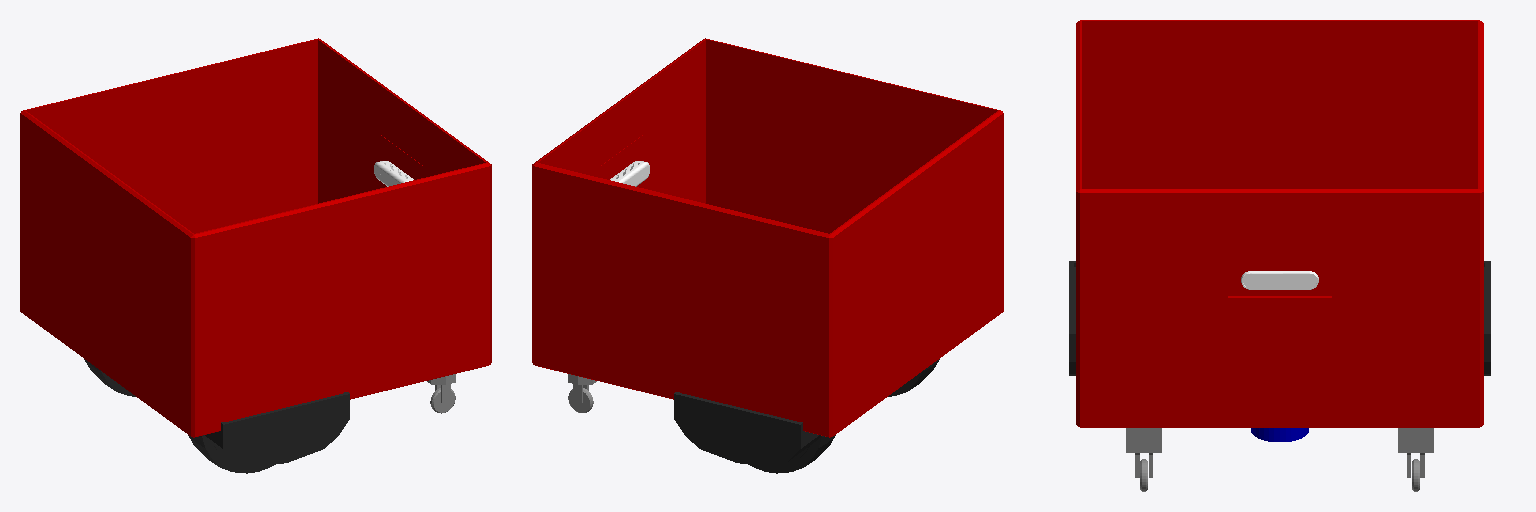
robot.urdf — MiroBot:
<?xml version="1.0"?>
<!-- created with Phobos 1.0.1 "Capricious Choutengan" -->
<robot name="MiroBot">

 <material name="blue">
   <color rgba="0 0 0.8 1"/>
 </material>
 
 <material name="red">
   <color rgba="0.8 0 0 1"/>
 </material>

 <material name="white">
   <color rgba="1 1 1 1"/>
 </material>
 
 <material name="grey">
   <color rgba="0.6 0.6 0.6 1"/>
 </material>
 
 <material name="black">
   <color rgba="0.2 0.2 0.2 1"/>
 </material>
 

 <link name="base_link">
   <visual>
      <origin rpy="0 0 0" xyz="0 0 0"/>
      <geometry>
         <mesh filename="package://mirobot_description/meshes/base.dae"/>
      </geometry>
      <material name="black"/>
   </visual>
   <visual>
      <origin rpy="0 0 0" xyz="0 0 0"/>
      <geometry>
         <mesh filename="package://mirobot_description/meshes/shell.dae"/>
      </geometry>
      <material name="red"/>
   </visual>
   <visual>
      <origin rpy="0 0 0" xyz="0.09 0 0.062"/>
      <geometry>
         <mesh filename="package://mirobot_description/meshes/udoo.dae"/>
      </geometry>
      <material name="black"/>
   </visual>
   <visual>
      <origin rpy="0 0 0" xyz="0.27 0 0.058"/>
      <geometry>
         <mesh filename="package://mirobot_description/meshes/psu.dae"/>
      </geometry>
      <material name="black"/>
   </visual>
   <collision>
      <origin rpy="0 0 0" xyz="0 0 0"/>
      <geometry>
         <box size="0.42 0.42 0.42"/>
      </geometry>
   </collision>
 </link>

 <link name="l_caster_wheel_link">
   <visual>
      <origin rpy="0 0 0" xyz="0 0 0"/>
      <geometry>
         <mesh filename="package://mirobot_description/meshes/l_caster_wheel.dae"/>
      </geometry>
      <material name="grey"/>
   </visual>
   <collision>
      <origin rpy="0 0 0" xyz="-0.025 0 -0.02"/>
      <geometry>
         <box size="0.04 0.04 0.1"/>
      </geometry>
   </collision>
 </link>
 
 <link name="r_caster_wheel_link">
   <visual>
      <geometry>
         <mesh filename="package://mirobot_description/meshes/r_caster_wheel.dae"/>
      </geometry>
      <material name="grey"/>
   </visual>
   <collision>
      <origin rpy="0 0 0" xyz="-0.025 0 -0.02"/>
      <geometry>
         <box size="0.04 0.04 0.1"/>
      </geometry>
   </collision>
 </link>

 <link name="l_wheel_link">
   <visual>
      <geometry>
         <mesh filename="package://mirobot_description/meshes/l_wheel.dae"/>
      </geometry>
      <material name="black"/>
   </visual>
   <collision>
      <origin rpy="1.57079632679 0 0" xyz="0 0 0"/>
      <geometry>
         <cylinder length="0.055" radius="0.0852"/>
      </geometry>
   </collision>
 </link>
 
 <link name="r_wheel_link">
   <visual>
      <geometry>
         <mesh filename="package://mirobot_description/meshes/l_wheel.dae"/>
      </geometry>
      <material name="black"/>
   </visual>
   <collision>
      <origin rpy="-1.57079632679 0 0" xyz="0 0 0"/>
      <geometry>
         <cylinder length="0.055" radius="0.0852"/>
      </geometry>
   </collision>
 </link>
 
 <link name="laser_link">
   <visual>
      <geometry>
         <mesh filename="package://mirobot_description/meshes/lidar.dae"/>
      </geometry>
      <material name="blue"/>
   </visual>
 </link>
 
<link name="d400_link">
   <visual>
      <geometry>
         <mesh filename="package://mirobot_description/meshes/d435.dae"/>
      </geometry>
      <material name="white"/>
   </visual>
 </link>

 <link name="t265_link">
   <visual>
      <geometry>
         <mesh filename="package://mirobot_description/meshes/t265.dae"/>
      </geometry>
      <material name="white"/>
   </visual>
 </link>


 <joint name="l_caster_wheel_joint" type="fixed">
   <origin rpy="0 0 0" xyz="0.3 0.15 0"/>
   <parent link="base_link"/>
   <child link="l_caster_wheel_link"/>
 </joint>
 
 <joint name="r_caster_wheel_joint" type="fixed">
   <origin rpy="0 0 0" xyz="0.3 -0.15 0"/>
   <parent link="base_link"/>
   <child link="r_caster_wheel_link"/>
 </joint>

 <joint name="l_wheel_joint" type="continuous">
   <axis xyz="0 1 0"/>
   <limit effort="3.0" velocity="6.28"/>
   <origin rpy="0 0 0" xyz="0 0.135 0"/>
   <parent link="base_link"/>
   <child link="l_wheel_link"/>
 </joint>

 <joint name="r_wheel_joint" type="continuous">
   <axis xyz="0 1 0"/>
   <limit effort="3.0" velocity="6.28"/>
   <origin rpy="3.141527 0 0" xyz="0 -0.135 0"/>
   <parent link="base_link"/>
   <child link="r_wheel_link"/>
 </joint>
 
 <joint name="laser_joint" type="fixed">
   <origin rpy="3.141527 0 0" xyz="0.22 0 0.001"/>
   <parent link="base_link"/>
   <child link="laser_link"/>
 </joint>

 <joint name="d400_joint" type="fixed">
   <origin rpy="0 0 0" xyz="0.300 0 0.2"/>
   <parent link="base_link"/>
   <child link="d400_link"/>
 </joint>
 
 <joint name="t265_joint" type="fixed">
   <origin rpy="0 0 0" xyz="0.305 0 0.225"/>
   <parent link="base_link"/>
   <child link="t265_link"/>
 </joint>

</robot>

--- Facts derived from the render (not from the file) ---
Views: 3 orthographic renders of the robot side by side, from view 1: azimuth 30°, elevation 25°; view 2: azimuth 150°, elevation 25°; view 3: azimuth 270°, elevation 25°.
Model MiroBot with 8 links and 7 joints (2 continuous, 5 fixed), rooted at base_link, posed every joint at zero.
Links seen in each view (by area): view 1: base_link, r_wheel_link, r_caster_wheel_link, d400_link; view 2: base_link, l_wheel_link, l_caster_wheel_link, d400_link; view 3: base_link, d400_link, l_caster_wheel_link, r_caster_wheel_link, laser_link.
Link boxes in pixels (left/top/right/bottom): base_link: left=20, top=38, right=491, bottom=466; r_wheel_link: left=188, top=435, right=275, bottom=473; r_caster_wheel_link: left=427, top=374, right=455, bottom=413; d400_link: left=374, top=161, right=413, bottom=186; base_link: left=532, top=38, right=1003, bottom=466; l_wheel_link: left=748, top=435, right=835, bottom=473; l_caster_wheel_link: left=568, top=374, right=596, bottom=412; d400_link: left=610, top=161, right=649, bottom=186; base_link: left=1069, top=20, right=1490, bottom=427; d400_link: left=1241, top=271, right=1318, bottom=289; l_caster_wheel_link: left=1398, top=428, right=1433, bottom=491; r_caster_wheel_link: left=1126, top=428, right=1161, bottom=491; laser_link: left=1251, top=428, right=1308, bottom=441.
Bounding box of the posed robot: 0.45 × 0.465 × 0.4004 m (x, y, z).
Meshes: 10 distinct files referenced, 10 mesh visuals loaded (9 Collada DAE); not drawn: 1 (reference not matched to a file when rendering).